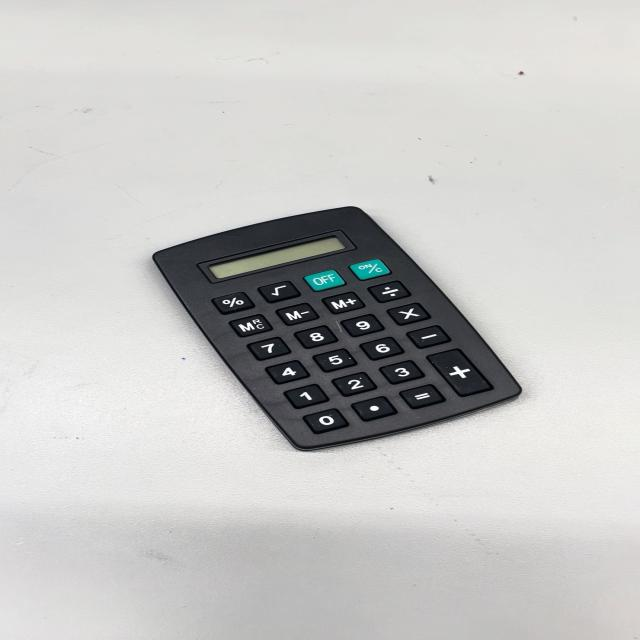calculator: (147, 202, 520, 451)
